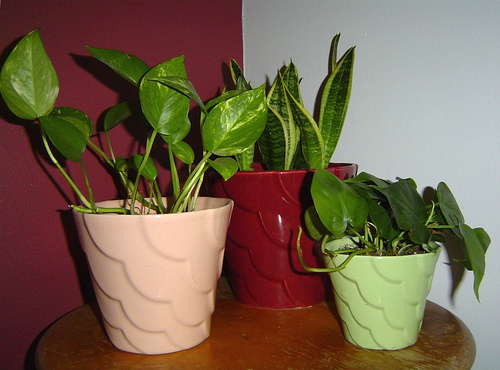tire: (74, 196, 233, 354), (208, 161, 356, 303), (322, 234, 440, 346)
